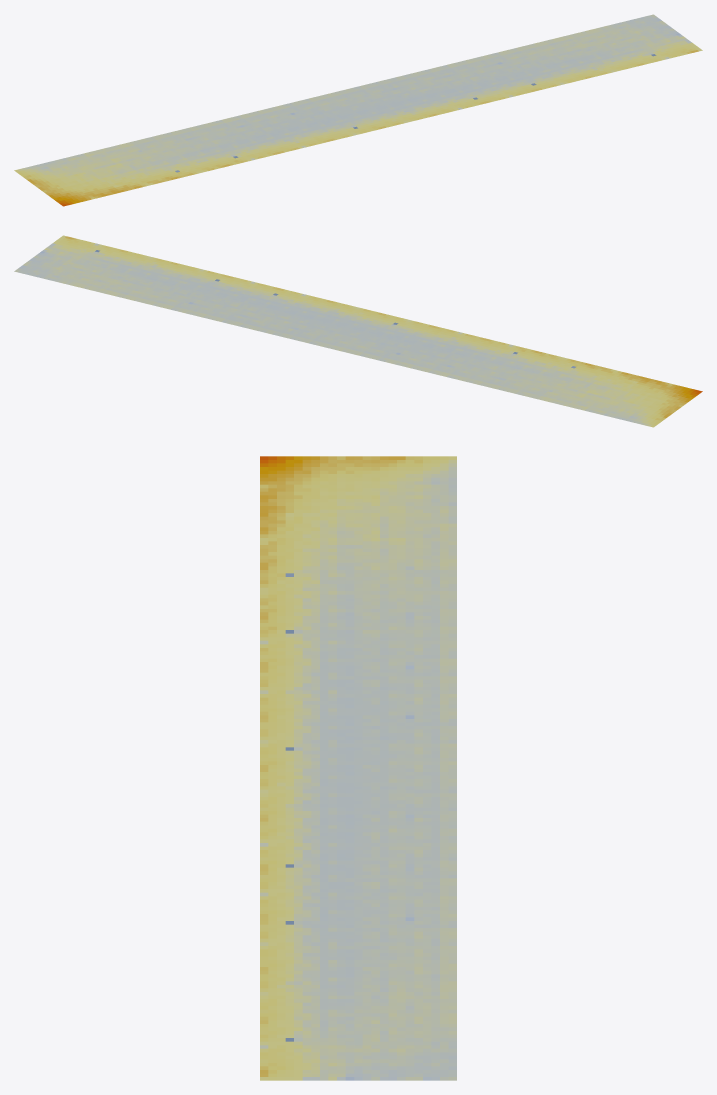
Rendered from sunHours.gltf.
The picture shows the model from 3 angles, top to bottom: view 1: azimuth 30°, elevation 25°; view 2: azimuth 150°, elevation 25°; view 3: azimuth 270°, elevation 25°; orthographic projection. The views are drawn at different scales.
Parts seen in each view (by area): view 1: AnnualSunHours; view 2: AnnualSunHours; view 3: AnnualSunHours.
Part boxes in pixels (x1,y1,x2,y2): AnnualSunHours: (14, 14, 702, 206); AnnualSunHours: (14, 235, 702, 427); AnnualSunHours: (260, 456, 456, 1080).
Size of the model in its own units: 35.35 by 0 by 4.72.
